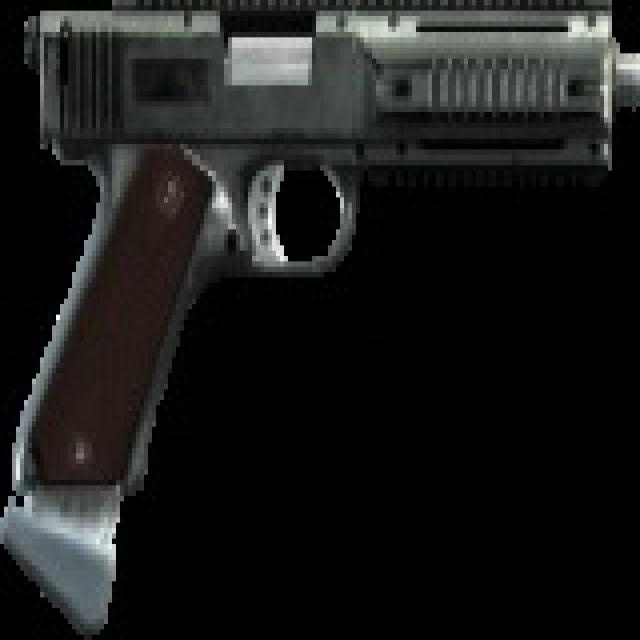Gun: (12, 9, 638, 640)
